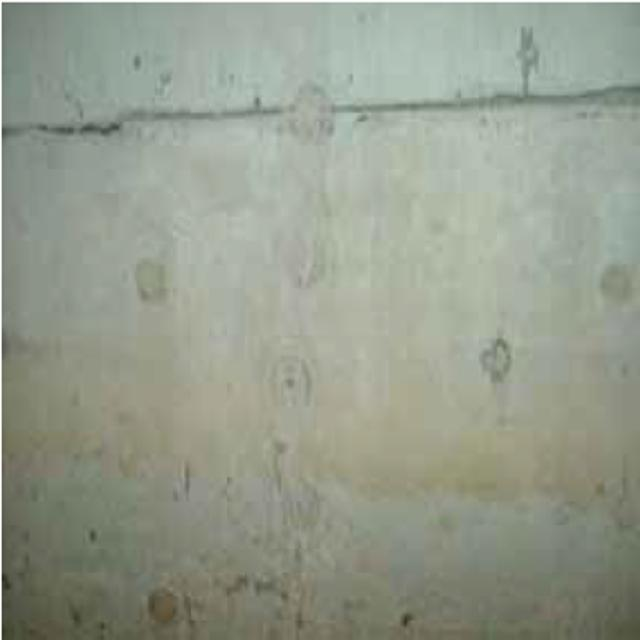crack: (0, 74, 640, 140)
